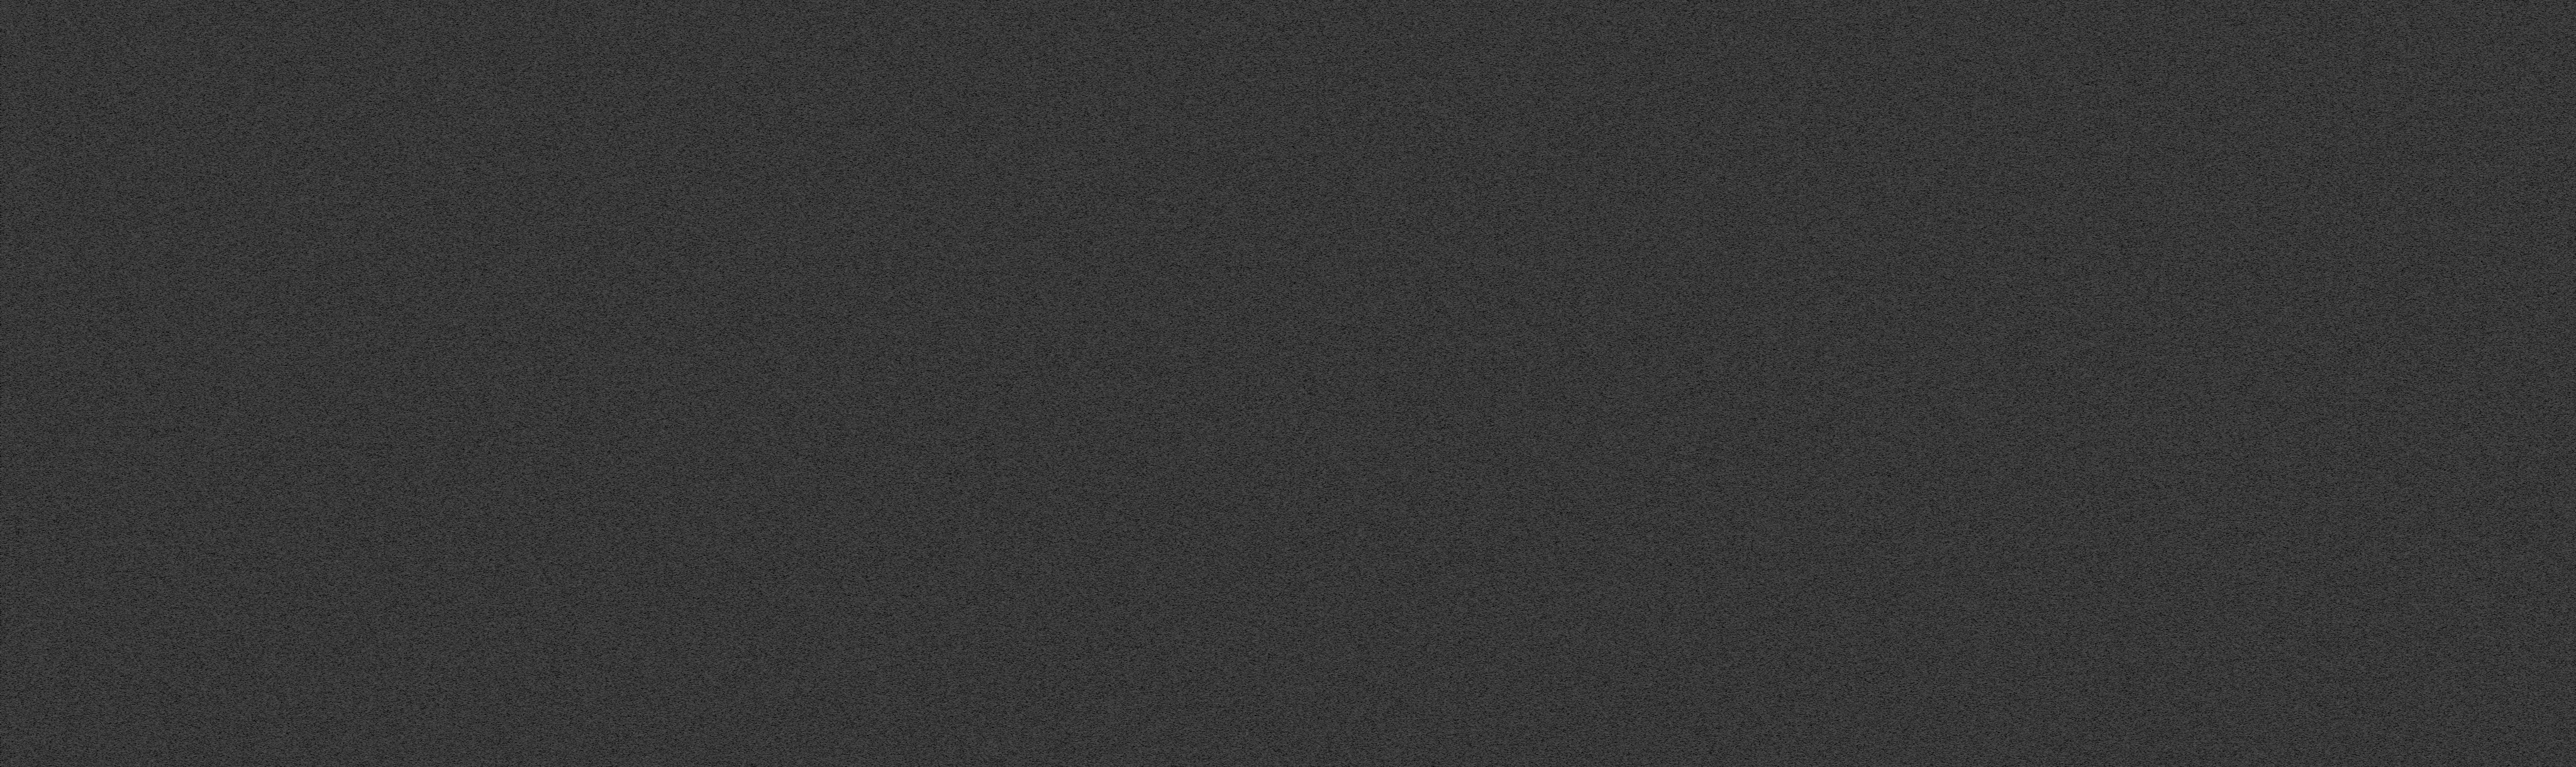wv_am: (2118, 0, 2119, 767)
wv_cw: (2264, 0, 2267, 767), (2256, 0, 2259, 767)
wv_lsb: (2228, 3, 2231, 399), (2228, 453, 2231, 767), (2160, 103, 2165, 153), (2256, 439, 2259, 498), (2160, 184, 2164, 238), (2228, 401, 2231, 452), (2160, 680, 2164, 729), (2256, 281, 2259, 317), (2160, 351, 2164, 384), (2160, 18, 2164, 51), (2257, 509, 2259, 560), (2256, 742, 2259, 767), (2160, 514, 2164, 539), (2256, 576, 2259, 599), (2160, 432, 2164, 453), (2160, 599, 2164, 619), (2256, 146, 2259, 164), (2160, 51, 2164, 67), (2256, 721, 2259, 734), (2257, 240, 2259, 266), (2257, 212, 2259, 238), (2160, 624, 2164, 637), (2160, 455, 2164, 468), (2256, 599, 2259, 609), (2257, 181, 2259, 200), (2160, 269, 2164, 279), (2257, 609, 2259, 627), (2257, 317, 2259, 333), (2257, 268, 2259, 281), (2160, 760, 2164, 767), (2160, 67, 2164, 74), (2257, 333, 2259, 345), (2256, 565, 2259, 570), (2257, 166, 2259, 176), (2256, 141, 2259, 146), (2162, 315, 2164, 325), (2160, 289, 2164, 294), (2160, 284, 2164, 289), (2257, 734, 2259, 742), (2257, 662, 2259, 670), (2257, 498, 2259, 506), (2257, 204, 2259, 212), (2162, 547, 2164, 555), (2162, 539, 2164, 547), (2257, 701, 2259, 708), (2257, 687, 2259, 693), (2257, 647, 2259, 654), (2257, 632, 2259, 639), (2257, 416, 2259, 422), (2257, 350, 2259, 356), (2257, 18, 2259, 25), (2160, 621, 2164, 624), (2160, 281, 2164, 284), (2257, 695, 2259, 700), (2257, 670, 2259, 675), (2257, 572, 2259, 576), (2257, 368, 2259, 373), (2257, 48, 2259, 53), (2257, 33, 2259, 38), (2257, 28, 2259, 33), (2257, 7, 2259, 11), (2162, 560, 2164, 565), (2162, 503, 2164, 508), (2162, 478, 2164, 483), (2162, 468, 2164, 473), (2162, 347, 2164, 351), (2162, 340, 2164, 345), (2162, 304, 2164, 309), (2162, 240, 2164, 245), (2162, 172, 2164, 177), (2257, 716, 2259, 719), (2257, 682, 2259, 685), (2257, 678, 2259, 682), (2257, 655, 2259, 659), (2257, 644, 2259, 647), (2257, 639, 2259, 642), (2257, 562, 2259, 565), (2257, 506, 2259, 509), (2257, 430, 2259, 434), (2257, 424, 2259, 427), (2257, 412, 2259, 416), (2257, 407, 2259, 411), (2257, 404, 2259, 407), (2257, 396, 2259, 399), (2257, 393, 2259, 396), (2257, 384, 2259, 388), (2257, 381, 2259, 384), (2257, 376, 2259, 379), (2257, 373, 2259, 376), (2257, 365, 2259, 368), (2257, 361, 2259, 365), (2257, 356, 2259, 360), (2257, 200, 2259, 204), (2257, 177, 2259, 181), (2257, 59, 2259, 62), (2257, 43, 2259, 46), (2257, 25, 2259, 28), (2257, 11, 2259, 15), (2162, 731, 2164, 734), (2162, 386, 2164, 389), (2162, 328, 2164, 332), (2162, 325, 2164, 328), (2160, 310, 2164, 312), (2162, 301, 2164, 304), (2162, 296, 2164, 299), (2162, 169, 2164, 172), (2160, 163, 2164, 164), (2257, 713, 2259, 714), (2257, 675, 2259, 677), (2257, 660, 2259, 662), (2257, 629, 2259, 631), (2257, 435, 2259, 437), (2257, 427, 2259, 429), (2257, 401, 2259, 402), (2257, 389, 2259, 391), (2257, 347, 2259, 348), (2162, 639, 2164, 641), (2162, 486, 2164, 488), (2162, 337, 2164, 338), (2162, 332, 2164, 333), (2162, 256, 2164, 258), (2162, 166, 2164, 168), (2162, 159, 2164, 161)
wv_usb: (1511, 448, 1515, 695), (2272, 442, 2275, 498), (1511, 713, 1515, 767), (2272, 675, 2275, 718), (2272, 97, 2275, 133), (2272, 246, 2275, 281), (2272, 199, 2275, 230), (2272, 718, 2275, 746), (2272, 297, 2275, 322), (1511, 365, 1513, 411), (1511, 135, 1515, 156), (1511, 327, 1513, 365), (1511, 412, 1513, 448), (2272, 424, 2275, 440), (2272, 79, 2275, 95), (1511, 695, 1515, 711), (2272, 370, 2275, 384), (2272, 342, 2275, 356), (2272, 138, 2275, 153), (2272, 59, 2275, 74), (2272, 539, 2275, 552), (2272, 356, 2275, 370), (2272, 176, 2275, 189), (2272, 5, 2275, 18), (1511, 314, 1515, 327), (2272, 407, 2275, 419), (2272, 281, 2275, 292), (2272, 629, 2275, 641), (2272, 567, 2275, 576), (2272, 519, 2275, 529), (2272, 508, 2275, 517), (2272, 393, 2275, 402), (2272, 324, 2275, 333), (2272, 166, 2275, 176), (2272, 18, 2275, 28), (2272, 665, 2275, 675), (2272, 647, 2275, 657), (2272, 613, 2275, 621), (2272, 191, 2275, 199), (2272, 156, 2275, 164), (2272, 657, 2275, 665), (1511, 28, 1513, 43), (2272, 588, 2275, 595), (2272, 578, 2275, 585), (2272, 560, 2275, 567), (2272, 232, 2275, 238), (2272, 48, 2275, 54), (2272, 760, 2275, 767), (2272, 752, 2275, 759), (2272, 746, 2275, 752), (2272, 622, 2275, 629), (1511, 85, 1513, 97), (2272, 606, 2275, 611), (2272, 552, 2275, 557), (2272, 532, 2275, 537), (2272, 498, 2275, 503), (2272, 386, 2275, 391), (2272, 337, 2275, 342), (2272, 31, 2275, 36), (1511, 177, 1513, 187), (1511, 187, 1513, 195), (1511, 158, 1513, 166), (1511, 67, 1513, 76), (1511, 53, 1513, 61), (1511, 3, 1513, 11), (2272, 601, 2275, 604), (2272, 557, 2275, 560), (2272, 419, 2275, 422), (2272, 402, 2275, 406), (2272, 333, 2275, 337), (2272, 292, 2275, 296), (2272, 133, 2275, 136), (2272, 74, 2275, 77), (2272, 644, 2275, 647), (2272, 641, 2275, 644), (1511, 237, 1513, 241), (1511, 199, 1513, 204), (1511, 172, 1513, 177), (1511, 102, 1513, 107), (1511, 46, 1513, 51), (2272, 598, 2275, 599), (2272, 504, 2275, 506), (2272, 243, 2275, 245), (2272, 238, 2275, 240), (1511, 217, 1513, 220), (2272, 154, 2275, 156), (2272, 56, 2275, 57), (2272, 38, 2275, 39), (2272, 30, 2275, 31), (1511, 120, 1513, 123), (1511, 110, 1513, 113), (1511, 77, 1513, 80), (1511, 21, 1513, 25), (1511, 11, 1513, 15), (1511, 274, 1513, 276), (1511, 246, 1513, 248), (2272, 529, 2274, 530), (1511, 235, 1513, 237), (1511, 205, 1513, 207), (1511, 168, 1513, 169), (1511, 115, 1513, 117), (1511, 107, 1513, 108), (1511, 64, 1513, 66), (1511, 61, 1513, 62), (1511, 25, 1513, 26), (1511, 16, 1513, 18), (1511, 309, 1513, 310), (1511, 279, 1513, 281)
